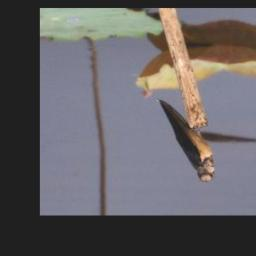Swallow: (157, 96, 215, 184)
